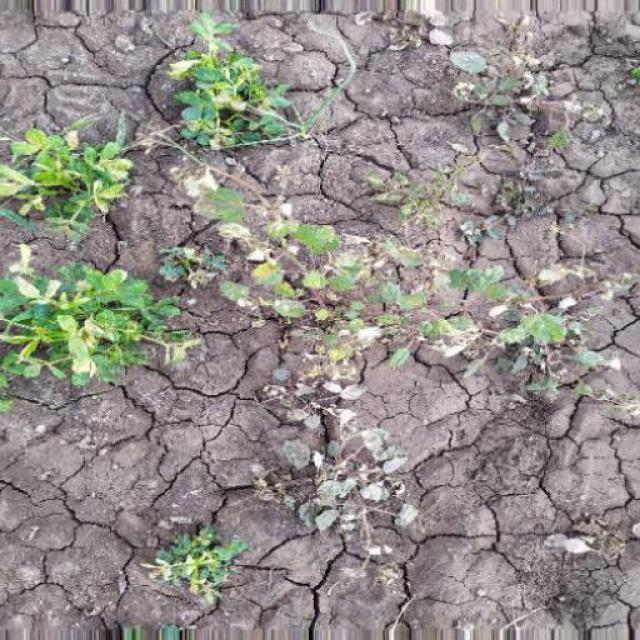weed: (12, 49, 622, 631)
